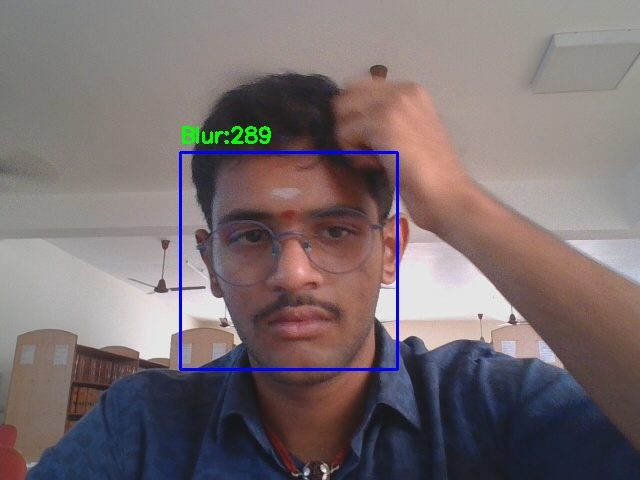real: (180, 152, 397, 369)
